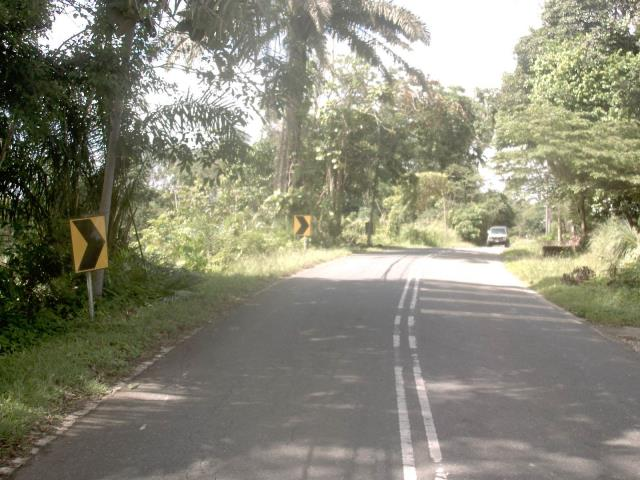traffic_sign: (62, 206, 116, 284)
